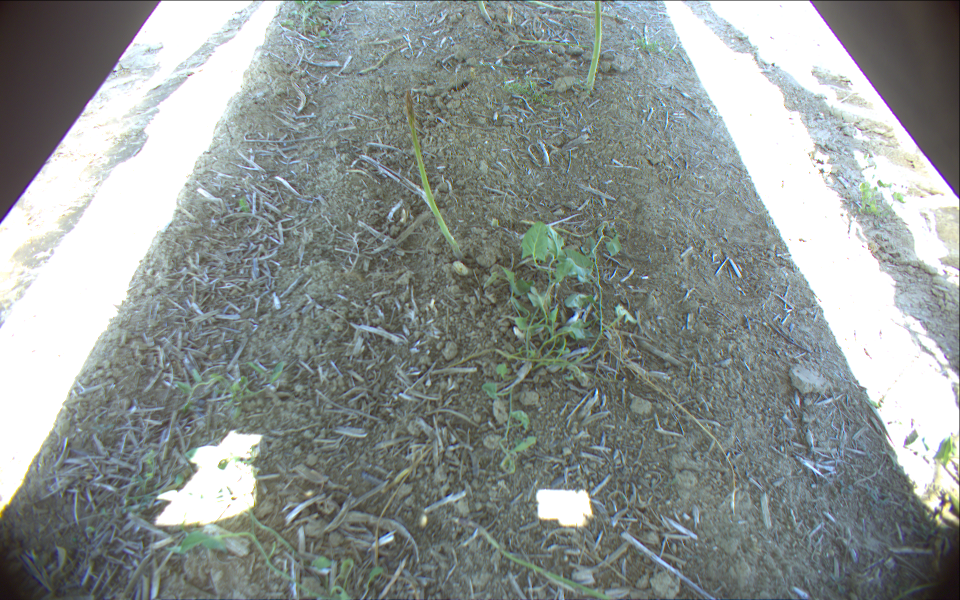aspa: (398, 91, 464, 264), (582, 1, 604, 91)
